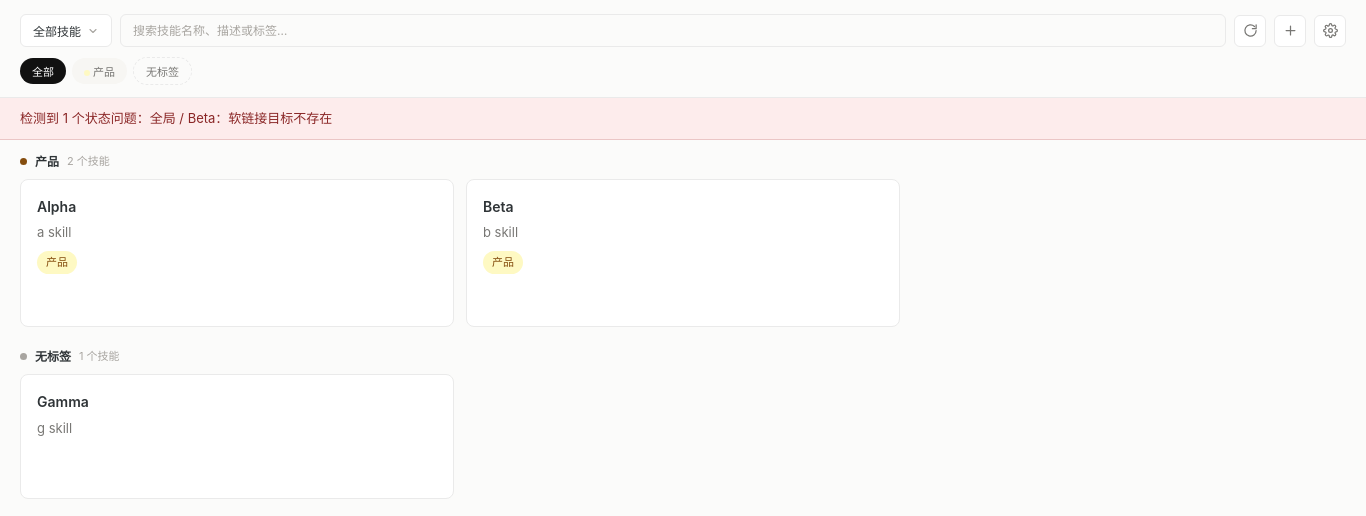
Test case: I2 外部变更后刷新 › 刷新按钮重新读取状态并提示
This screenshot has width=1366, height=516.
Check: the button with class "skill-card" showing "Alpha a skill 产品" is shown, box [20, 179, 454, 327]
Step 1. Click the button named "重新扫描" → (1250, 30), box [1234, 14, 1266, 46]
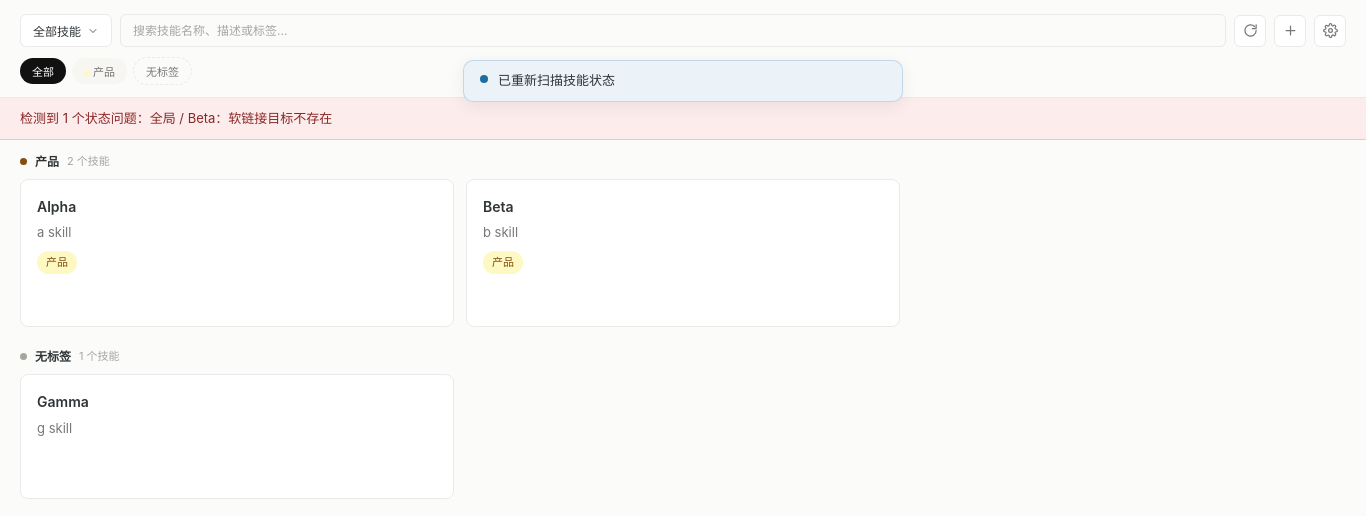
Check: the message with class "toast" shows "已重新扫描", box [498, 72, 615, 88]
